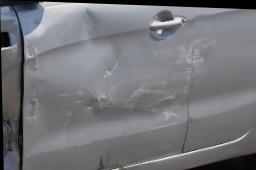Door: (15, 6, 195, 170), (190, 27, 224, 93)
Fender: (2, 109, 23, 158)
